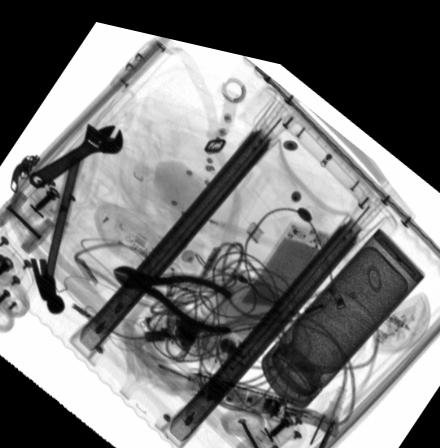Hammer: (29, 144, 84, 313)
Pliers: (114, 260, 234, 327)
Powerbank: (241, 207, 338, 292)
Wrench: (29, 116, 123, 186)
